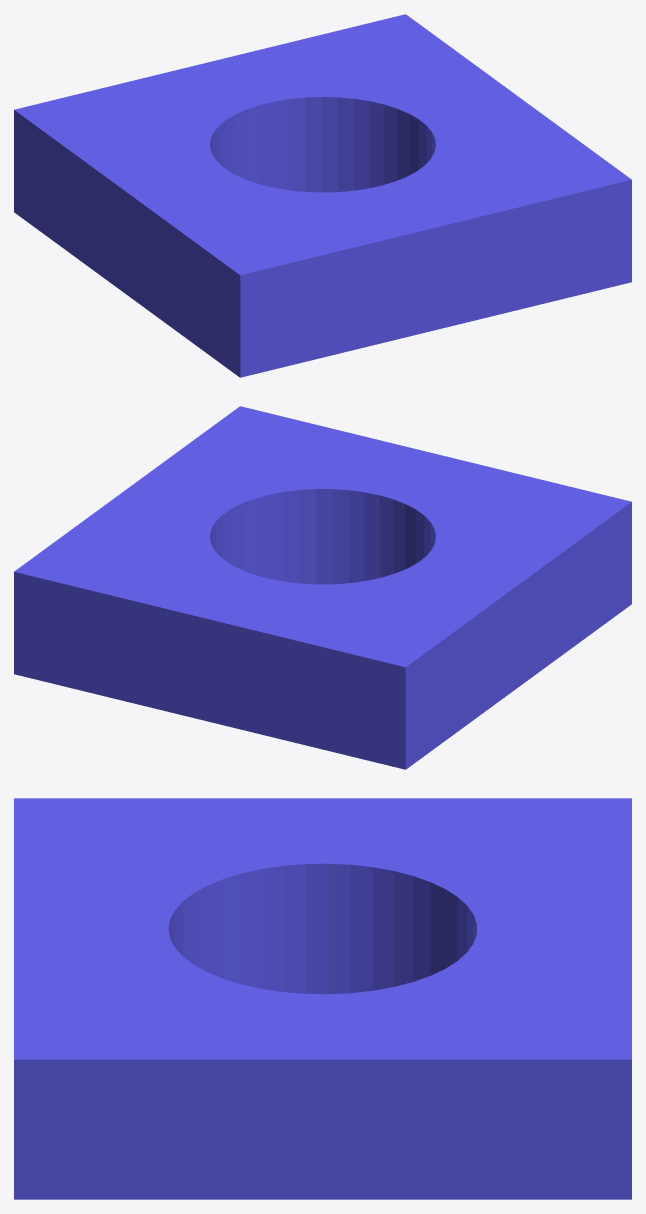
File: bot_Imu.dae
The picture shows the model from 3 angles, top to bottom: view 1: azimuth 30°, elevation 25°; view 2: azimuth 150°, elevation 25°; view 3: azimuth 270°, elevation 25°; orthographic projection. The views are drawn at different scales.
Parts seen in each view (by area): view 1: Imu; view 2: Imu; view 3: Imu.
Part boxes in pixels (bbox=[...]): Imu: bbox=[14, 14, 631, 377]; Imu: bbox=[14, 406, 631, 769]; Imu: bbox=[14, 798, 631, 1199].
Size of the model in its own units: 0.4 by 0.4 by 0.1.
